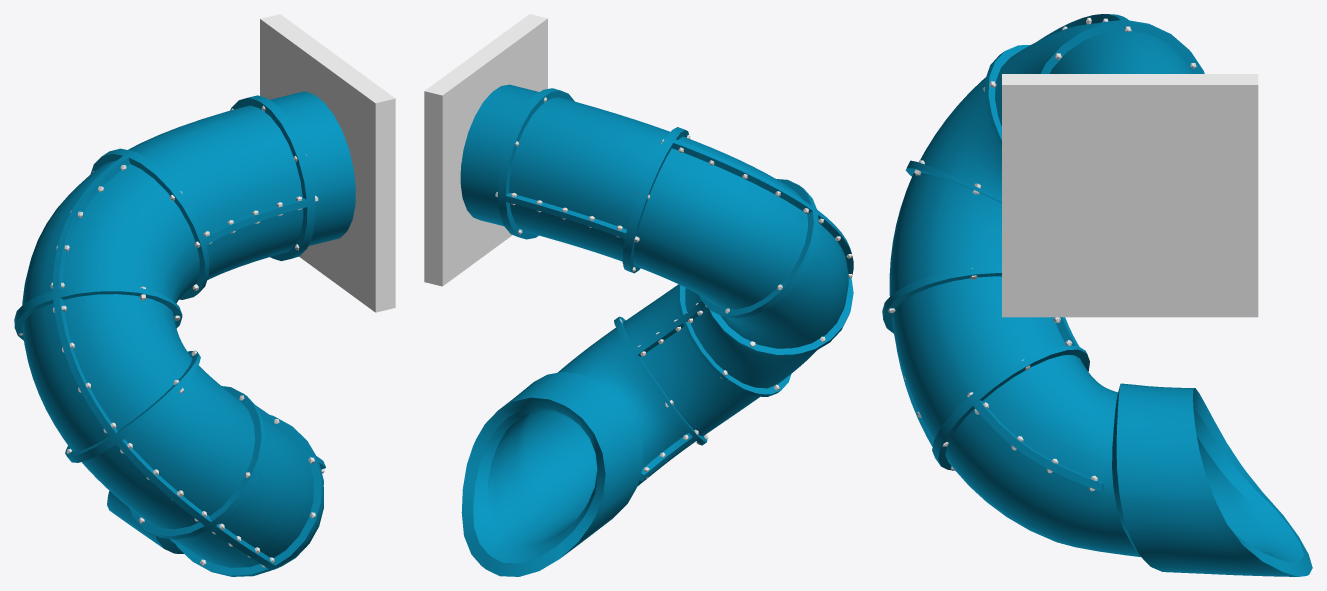
File: TTWS-5.glb
The picture shows the model from 3 angles, left to right: view 1: azimuth 30°, elevation 25°; view 2: azimuth 150°, elevation 25°; view 3: azimuth 270°, elevation 25°; orthographic projection. The views are drawn at different scales.
Parts seen in each view (by area): view 1: Turbo_Twister_Slider001,_colorize_, joint_c,1,6, Side_winder_slide006; view 2: Turbo_Twister_Slider001,_colorize_, joint_c,1,6, Side_winder_slide006; view 3: Turbo_Twister_Slider001,_colorize_, joint_c,1,6, Side_winder_slide006.
Part boxes in pixels (<box>): Turbo_Twister_Slider001,_colorize_: <box>14,91,355,576</box>; joint_c,1,6: <box>260,14,395,312</box>; Side_winder_slide006: <box>18,105,324,567</box>; Turbo_Twister_Slider001,_colorize_: <box>460,84,853,576</box>; joint_c,1,6: <box>424,14,547,286</box>; Side_winder_slide006: <box>495,97,852,478</box>; Turbo_Twister_Slider001,_colorize_: <box>882,14,1312,576</box>; joint_c,1,6: <box>1002,74,1258,317</box>; Side_winder_slide006: <box>888,17,1196,491</box>.
Size of the model in its own units: 1.72 by 2.33 by 1.68.
